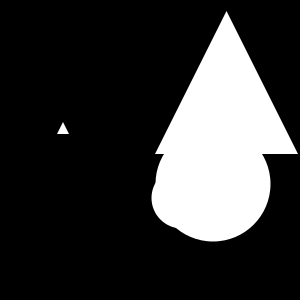rectangle: (156, 126, 270, 241), (152, 168, 212, 228), (211, 130, 253, 172)
triangle: (155, 11, 298, 154), (57, 122, 69, 134)
